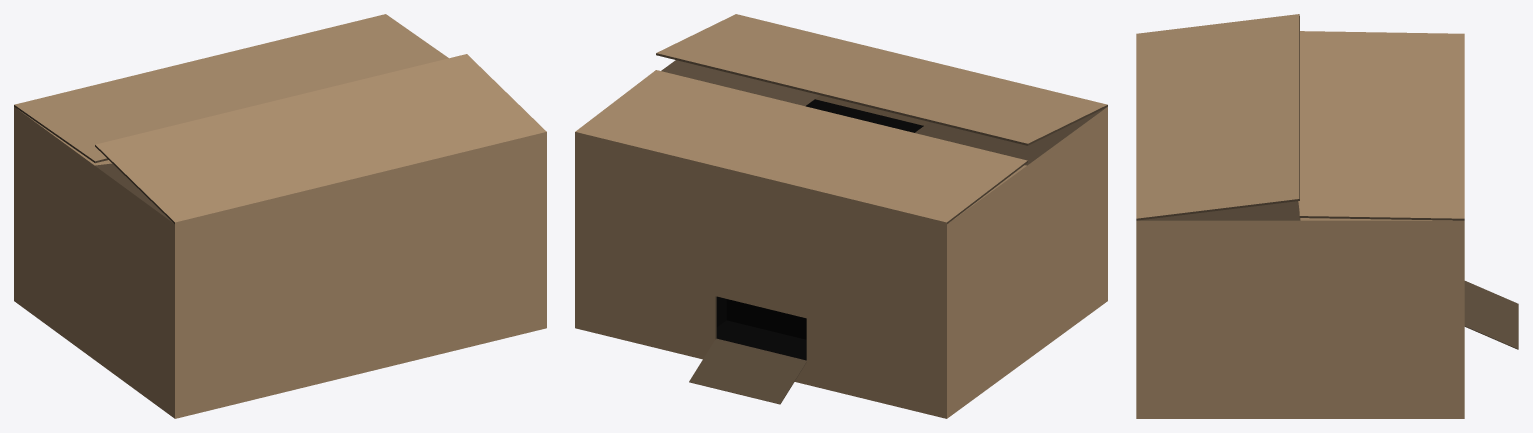
The model's file is Karton.fbx.
The picture shows the model from 3 angles, left to right: view 1: azimuth 30°, elevation 25°; view 2: azimuth 150°, elevation 25°; view 3: azimuth 270°, elevation 25°; orthographic projection.
Parts seen in each view (by area): view 1: Cube; view 2: Cube; view 3: Cube.
Boxes of the visible parts, x1=… form: Cube: x1=14, y1=14, x2=546, y2=418; Cube: x1=575, y1=14, x2=1107, y2=418; Cube: x1=1136, y1=14, x2=1518, y2=418.
Bounding box in the file's own units: 400 × 223 × 349.
